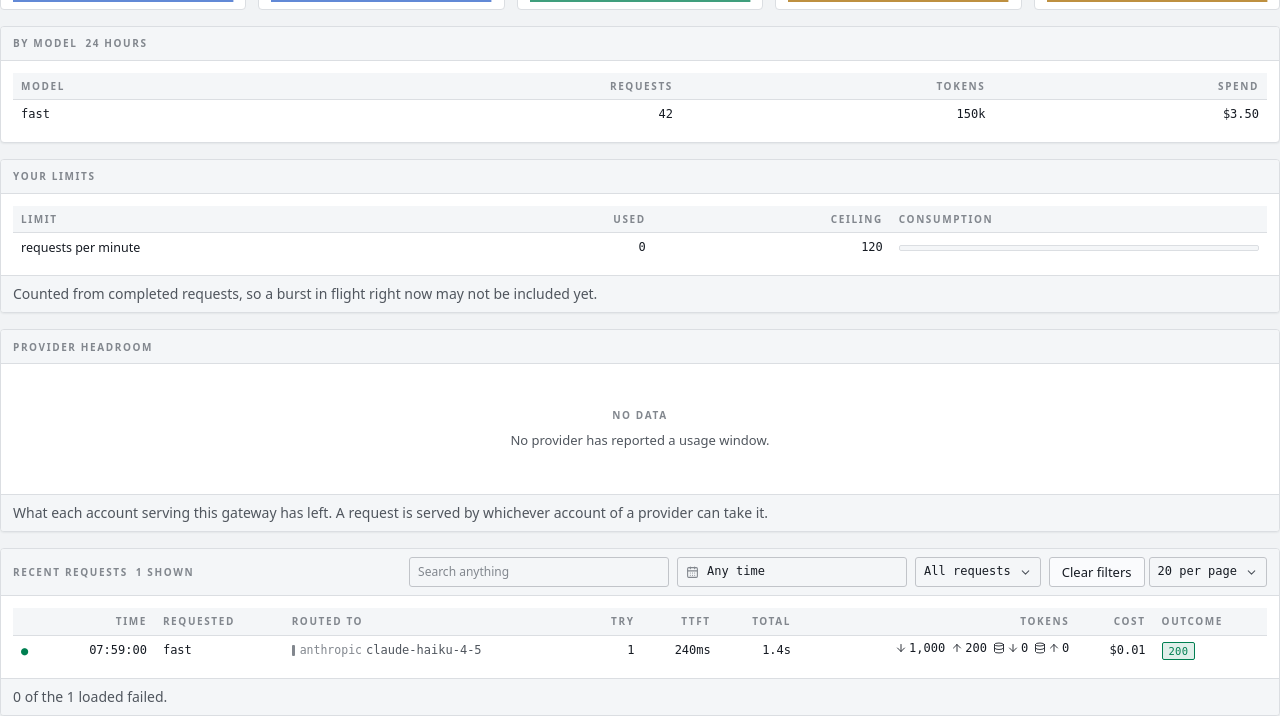
Test case: client board › request rows carry metadata and no way to open a body
(page scrolled)
Expected: the text "fast" in the row of "150k" is shown, [21,107,50,121]
Step 1. Click the 6th row → (118,650), box [13,635,1267,666]
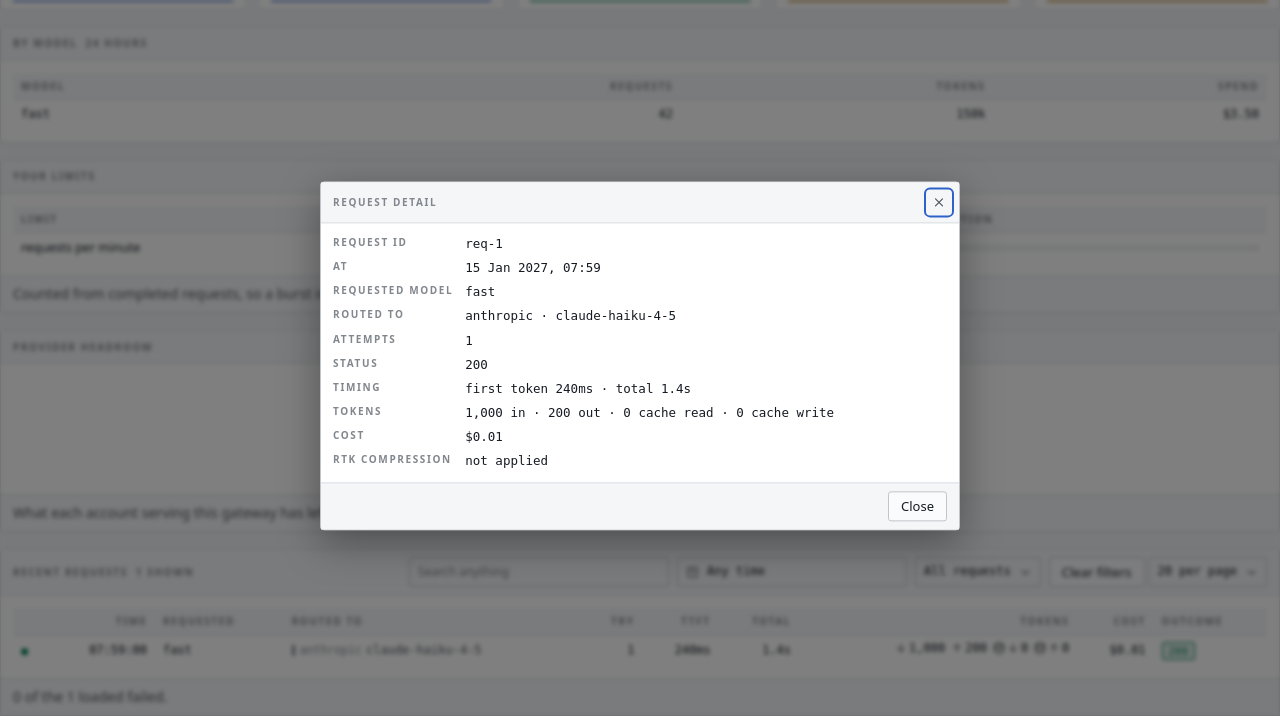
Now the text "Request id" is shown, box [333,235,408,249]
